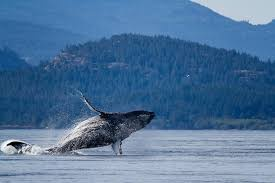humpback: (50, 108, 155, 151)
